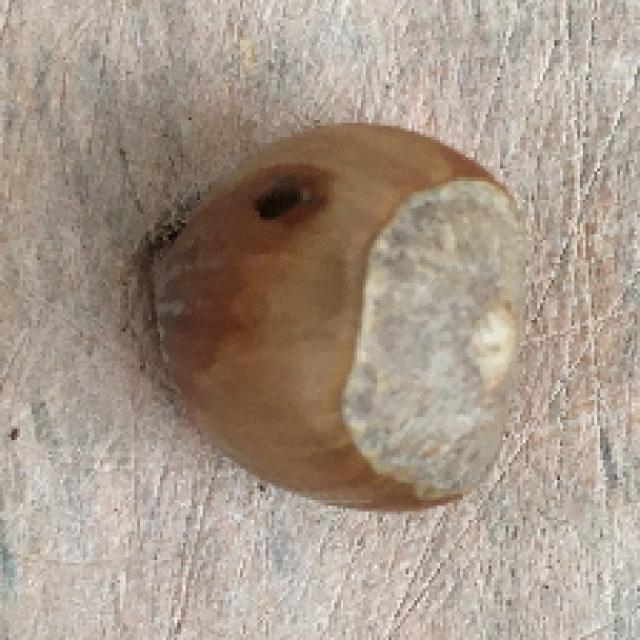damagedHazelnut: (140, 122, 529, 517)
